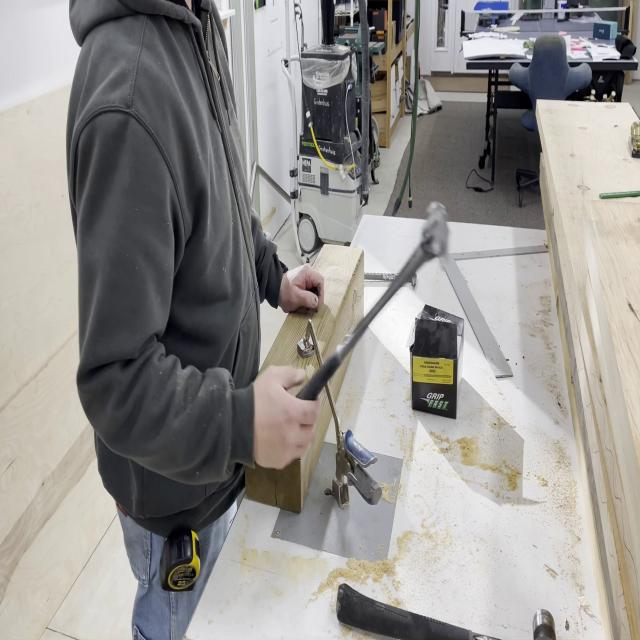hammer: (296, 202, 448, 398), (336, 581, 557, 640)
